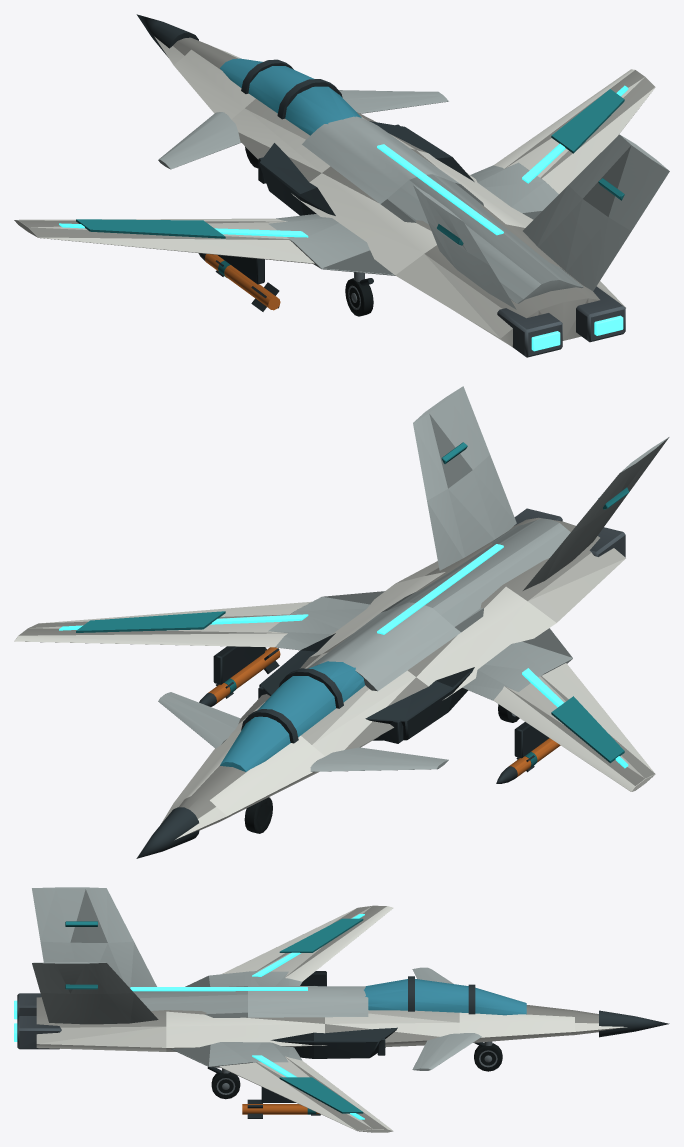
The model's file is TalonInterceptor.glb.
3 views of the same model, one above another, from view 1: azimuth 30°, elevation 25°; view 2: azimuth 150°, elevation 25°; view 3: azimuth 270°, elevation 25° (orthographic). The views are drawn at different scales.
Visible parts, largest first — view 1: export_helix_TalonInterceptor_Fuselage; view 2: export_helix_TalonInterceptor_Fuselage; view 3: export_helix_TalonInterceptor_Fuselage.
Part boxes in pixels (<box>): export_helix_TalonInterceptor_Fuselage: <box>14,14,669,357</box>; export_helix_TalonInterceptor_Fuselage: <box>14,386,669,858</box>; export_helix_TalonInterceptor_Fuselage: <box>14,887,669,1132</box>.
Bounding box in the file's own units: 5.5 × 1.66 × 6.83.
